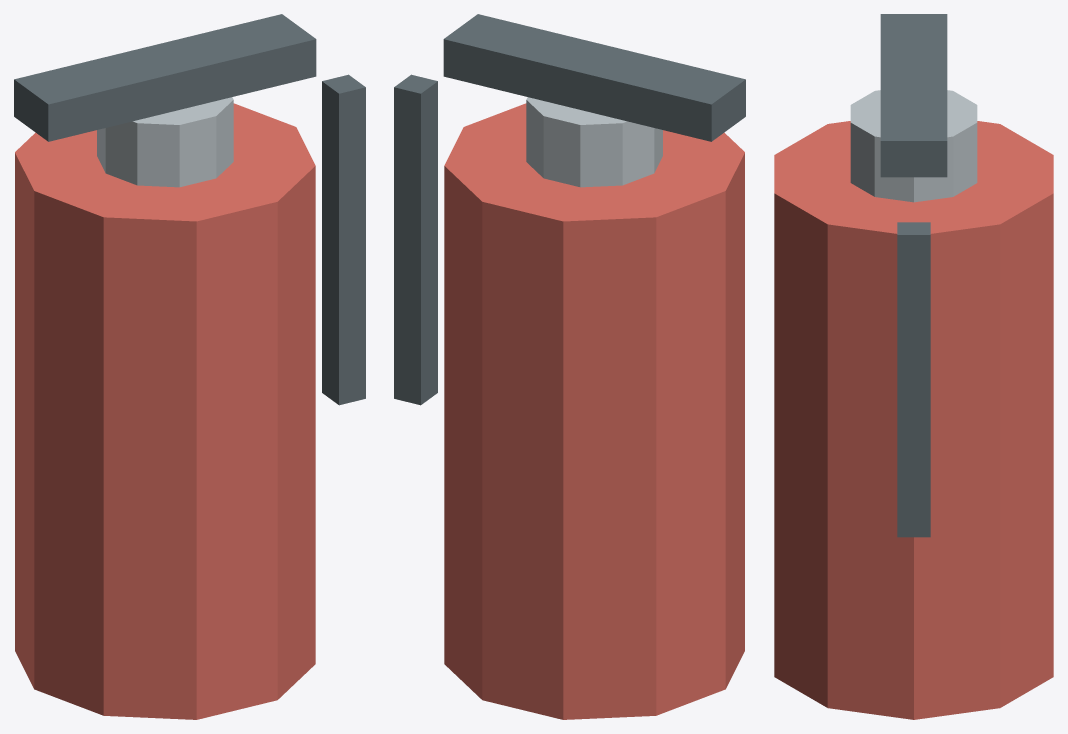
File: fire_extinguisher.glb
3 renders of one model, left to right at view 1: azimuth 30°, elevation 25°; view 2: azimuth 150°, elevation 25°; view 3: azimuth 270°, elevation 25°, orthographic. The views are drawn at different scales.
Bounding box in the file's own units: 0.5475 × 0.96 × 0.4185.
